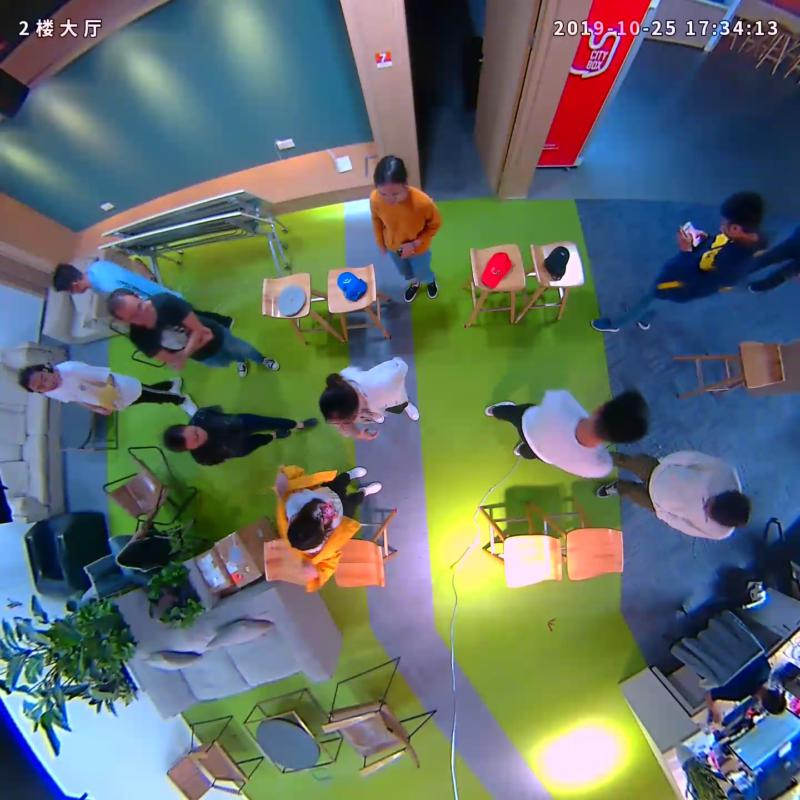head: (589, 389, 649, 442), (720, 192, 763, 241), (705, 490, 750, 529), (319, 383, 359, 426), (107, 288, 152, 326), (373, 155, 407, 205), (285, 513, 326, 552), (163, 421, 207, 453), (51, 260, 88, 296), (18, 364, 59, 395)
